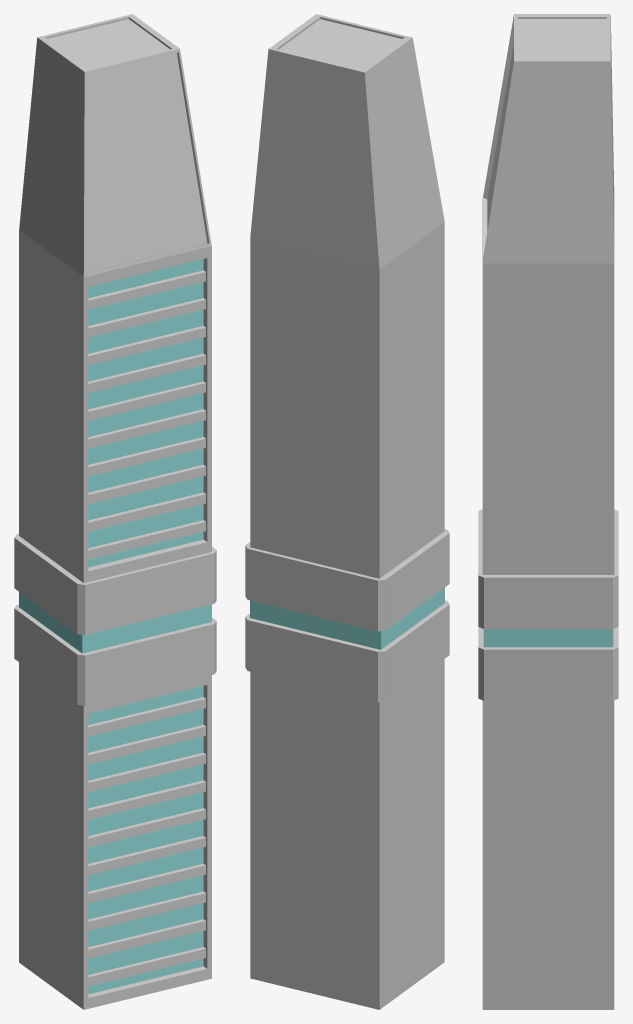
Rendered from BuildingE.fbx.
The picture shows the model from 3 angles, left to right: view 1: azimuth 30°, elevation 25°; view 2: azimuth 150°, elevation 25°; view 3: azimuth 270°, elevation 25°; orthographic projection.
Parts seen in each view (by area): view 1: Cube.001; view 2: Cube.001; view 3: Cube.001.
Boxes of the visible parts, x1=… form: Cube.001: x1=14, y1=14, x2=216, y2=1009; Cube.001: x1=245, y1=14, x2=449, y2=1009; Cube.001: x1=478, y1=14, x2=618, y2=1009.
Size of the model in its own units: 2034 by 12886 by 1745.
